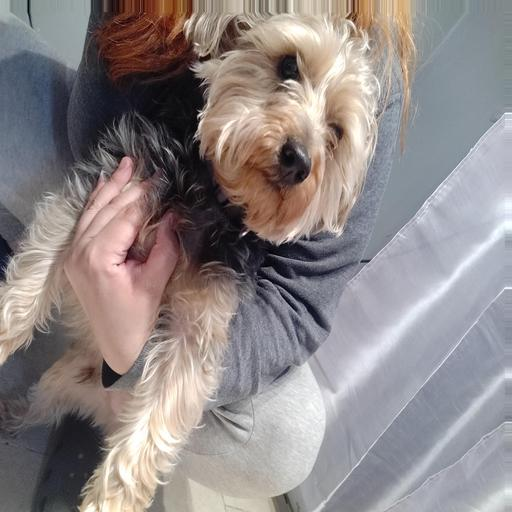dog: (181, 14, 413, 246)
